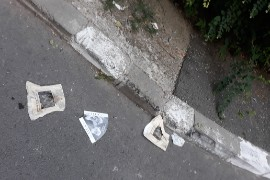trash: (19, 75, 69, 122), (140, 110, 188, 157), (78, 109, 112, 145), (148, 20, 161, 32)
